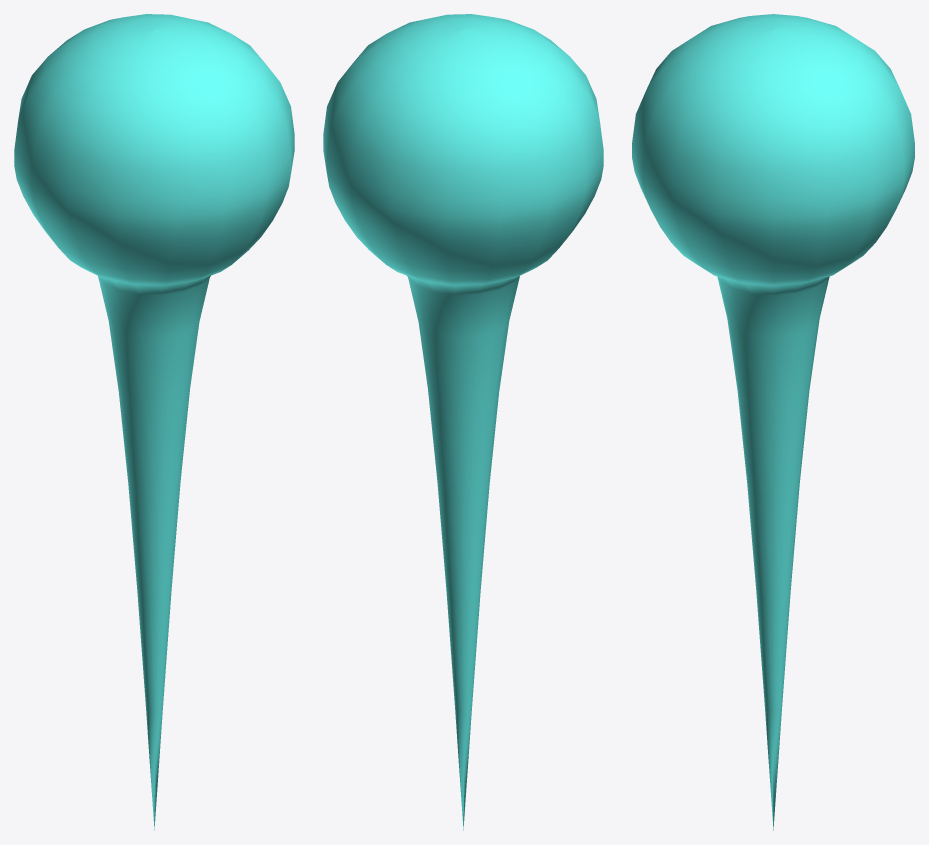
The model's file is thumbtack_cyan.obj.
3 renders of one model, left to right at view 1: azimuth 30°, elevation 25°; view 2: azimuth 150°, elevation 25°; view 3: azimuth 270°, elevation 25°, orthographic.
Visible parts, largest first — view 1: Line004; view 2: Line004; view 3: Line004.
Part boxes in pixels (<box>): Line004: <box>14,14,294,830</box>; Line004: <box>323,14,603,830</box>; Line004: <box>632,14,914,830</box>.
Bounding box in the file's own units: 80 × 250 × 80.
